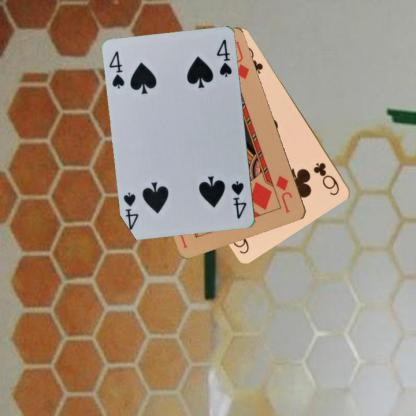4s: (228, 178, 249, 222), (107, 49, 126, 90)
6c: (310, 160, 342, 197)
Jd: (273, 172, 294, 214)
